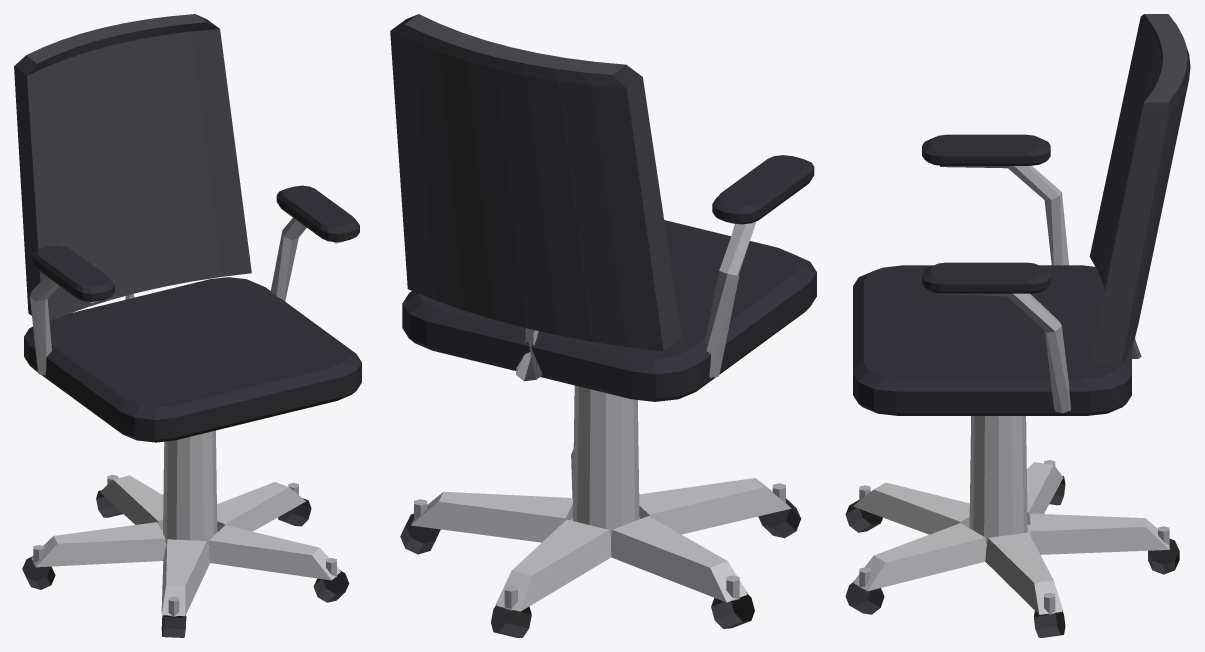
File: FN_Chair_Office.obj
3 views of the same model, side by side, from view 1: azimuth 30°, elevation 25°; view 2: azimuth 150°, elevation 25°; view 3: azimuth 270°, elevation 25° (orthographic). The views are drawn at different scales.
Parts seen in each view (by area): view 1: FN_Chair_Office; view 2: FN_Chair_Office; view 3: FN_Chair_Office.
Boxes of the visible parts, x1=… form: FN_Chair_Office: x1=14, y1=14, x2=361, y2=637; FN_Chair_Office: x1=390, y1=14, x2=816, y2=637; FN_Chair_Office: x1=845, y1=14, x2=1190, y2=637.
Size of the model in its own units: 0.5786 by 0.93 by 0.5684.
1 material, 1 textured.
